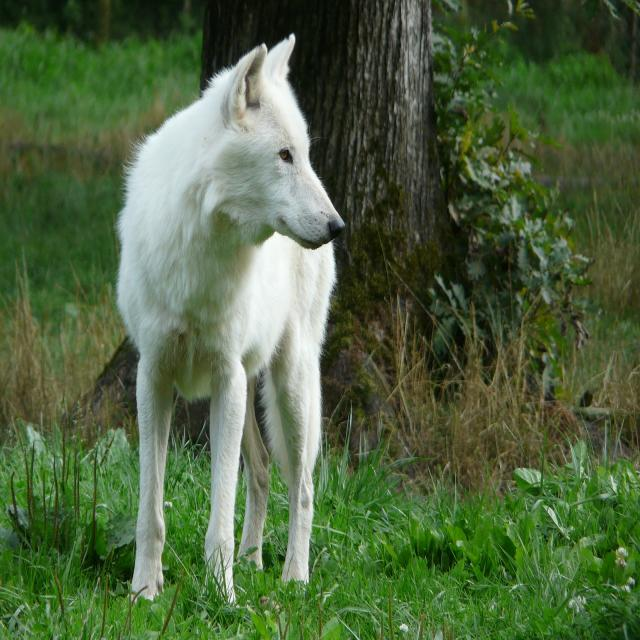Carnivorous: (115, 35, 346, 606)
